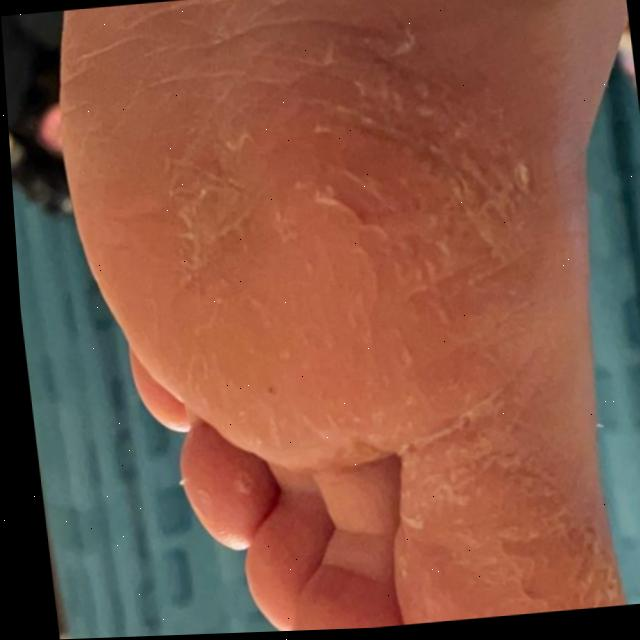Eczema: (133, 50, 611, 627)
